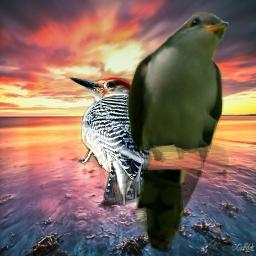Cuckoo: (126, 12, 229, 252)
Woodpecker: (64, 70, 155, 205)
